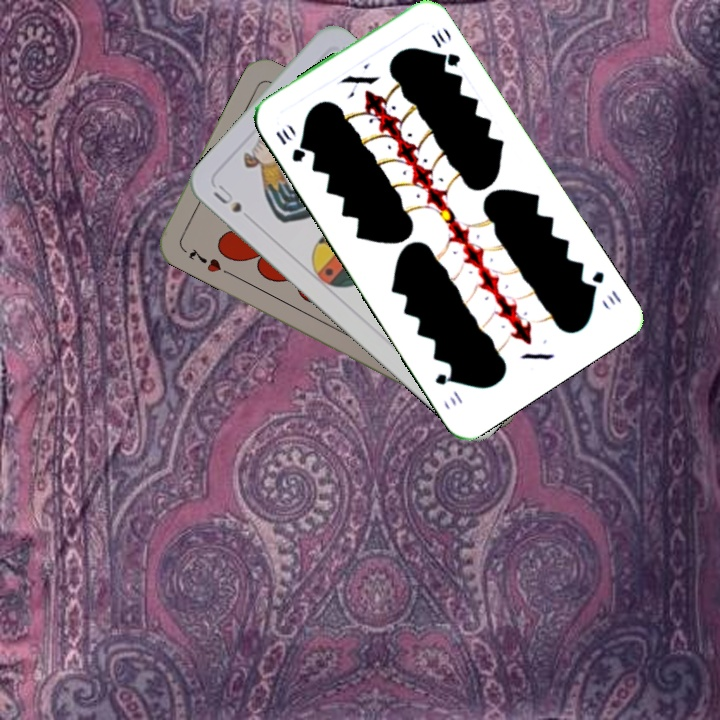G10: (583, 267, 625, 308), (271, 125, 309, 165)
H7: (184, 244, 224, 275)
SU: (209, 180, 245, 216)
